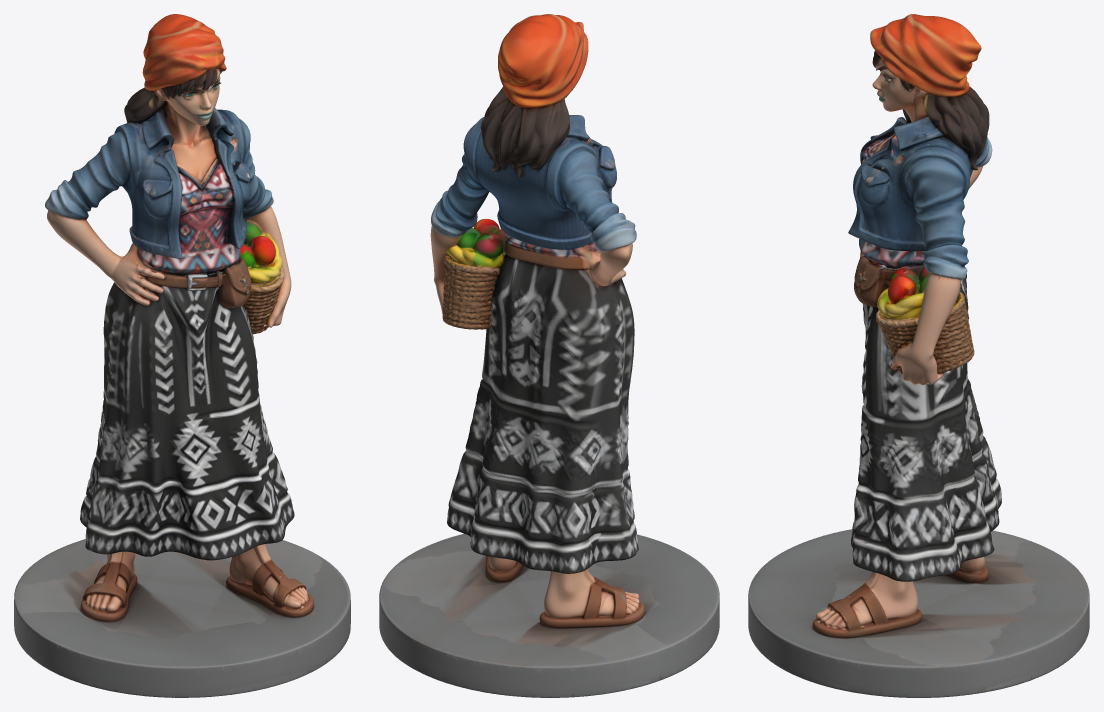
The model's file is Meshy_AI_Trader_s_Spirit_20260124_texture.glb.
The picture shows the model from 3 angles, left to right: view 1: azimuth 30°, elevation 25°; view 2: azimuth 150°, elevation 25°; view 3: azimuth 270°, elevation 25°; orthographic projection.
Size of the model in its own units: 0.9618 by 1.9 by 0.9619.
1 material, 1 textured.
